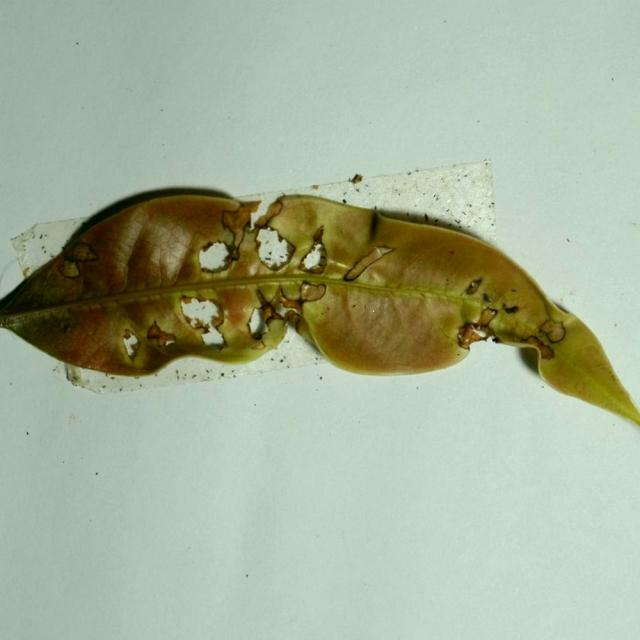Anthracnose: (109, 199, 389, 363), (461, 291, 559, 358), (249, 283, 322, 348), (196, 202, 254, 274), (28, 249, 85, 306), (178, 294, 227, 350), (256, 225, 313, 273), (342, 245, 395, 282), (254, 226, 294, 271), (298, 226, 328, 274), (255, 288, 288, 329), (198, 240, 235, 273), (146, 320, 178, 353), (254, 196, 285, 229), (456, 322, 492, 350), (522, 334, 554, 361), (277, 285, 305, 315), (495, 290, 526, 315), (246, 306, 269, 339), (537, 319, 566, 344), (66, 241, 98, 262), (200, 325, 226, 350), (299, 281, 327, 303), (121, 328, 140, 359), (221, 209, 242, 232), (57, 259, 81, 279), (265, 311, 286, 329), (479, 307, 498, 326), (284, 310, 303, 328), (311, 224, 325, 245), (466, 278, 483, 295), (158, 332, 176, 348), (191, 319, 209, 332), (472, 326, 488, 339), (250, 338, 267, 350), (180, 294, 195, 307), (503, 304, 519, 315), (212, 315, 224, 329), (60, 322, 72, 333), (351, 174, 364, 184), (246, 223, 255, 233)
Mango: (0, 188, 639, 429)
